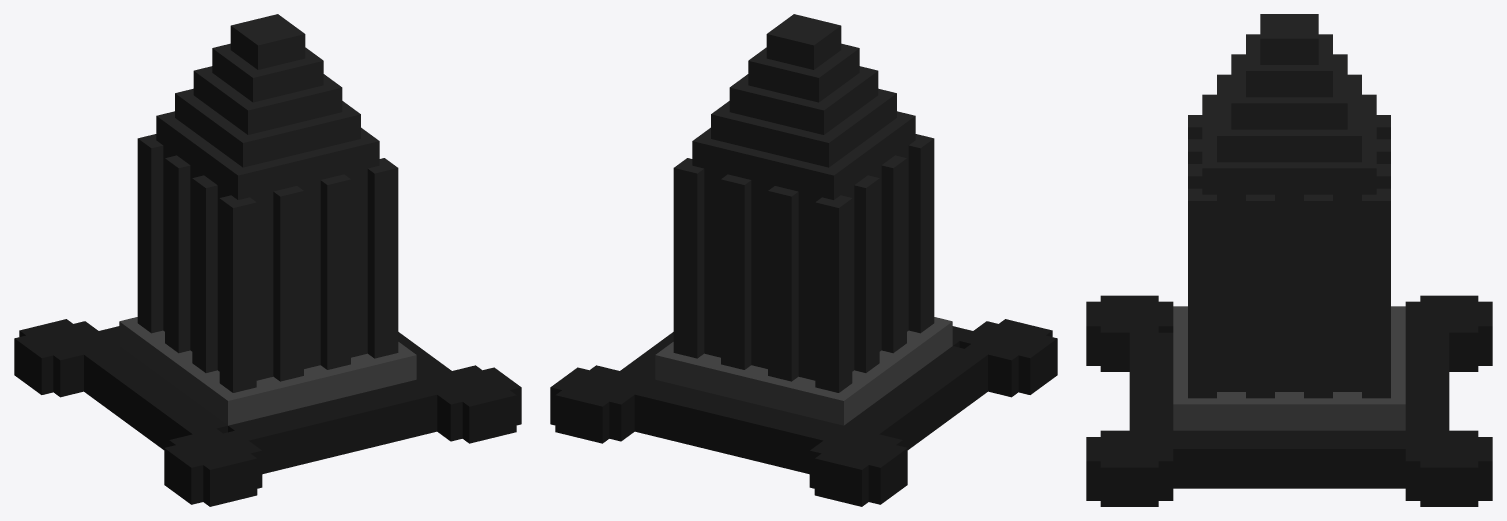
The model's file is TowerTest-3.obj.
3 renders of one model, left to right at view 1: azimuth 30°, elevation 25°; view 2: azimuth 150°, elevation 25°; view 3: azimuth 270°, elevation 25°, orthographic. The views are drawn at different scales.
Bounding box in the file's own units: 2.8 × 3 × 2.8.
1 material, 1 textured.
